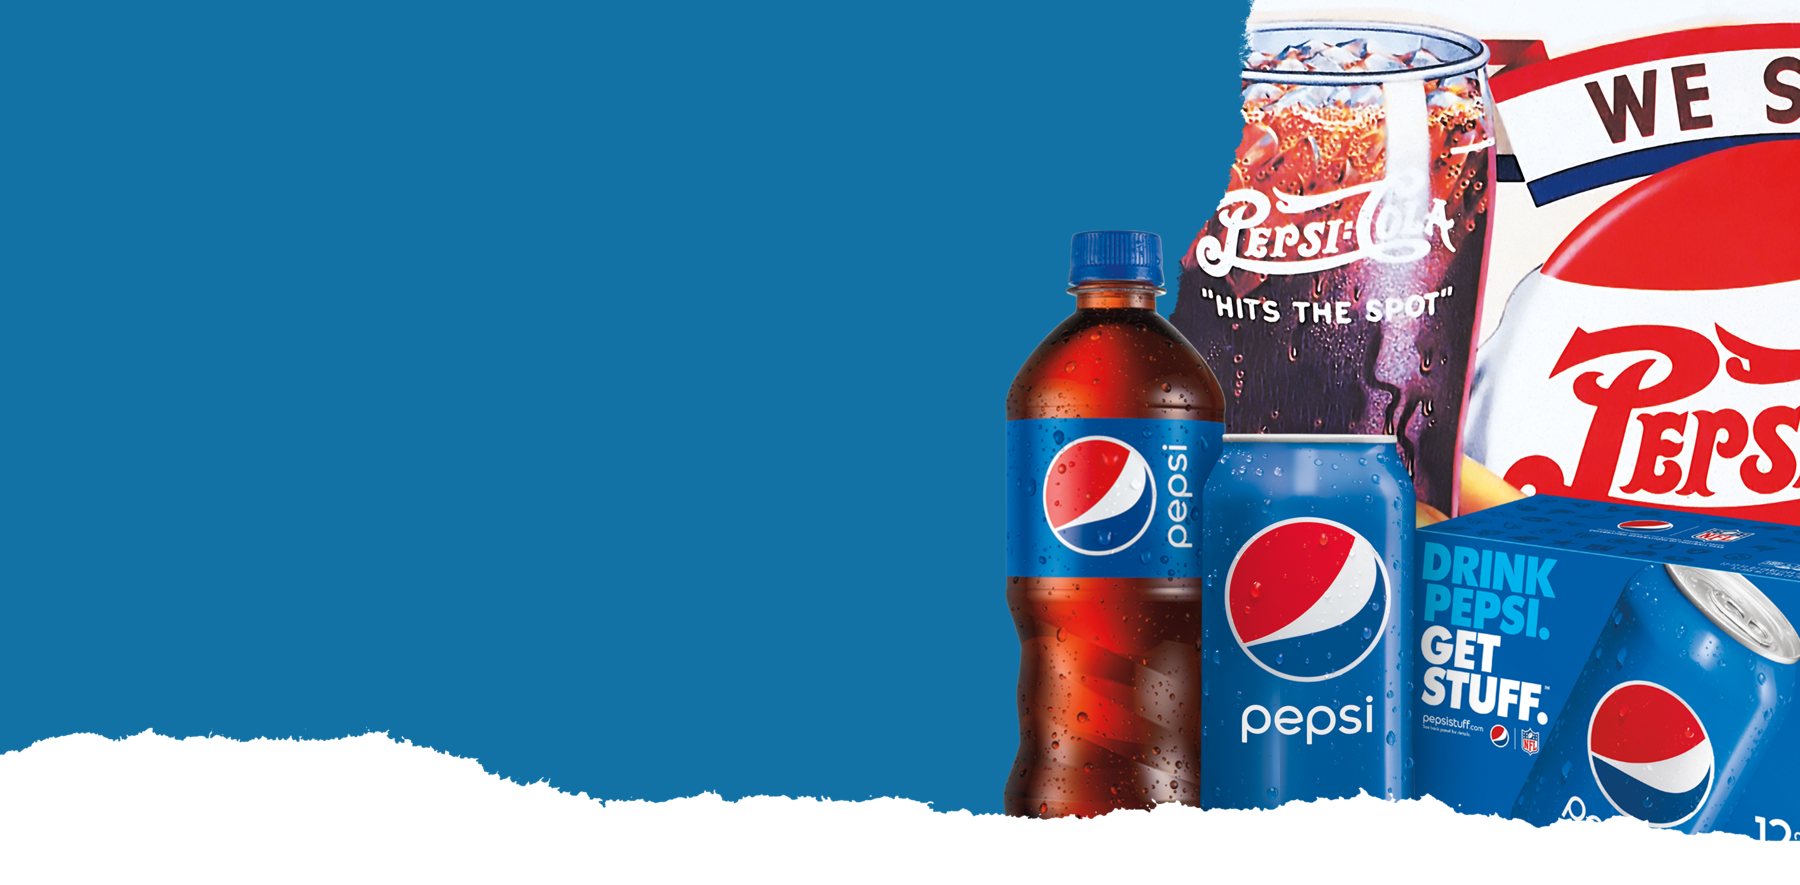pepsi: (1225, 514, 1387, 669), (1591, 682, 1710, 820), (1045, 436, 1153, 550), (1052, 436, 1153, 550), (1493, 723, 1511, 746)
